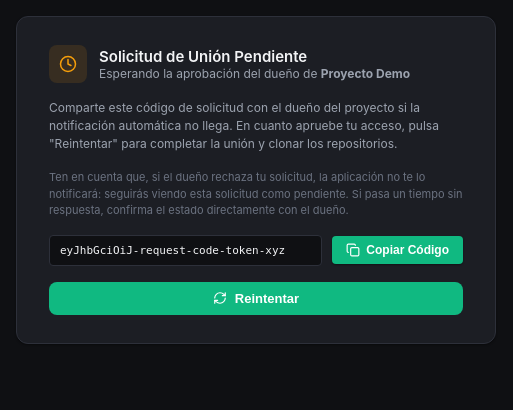
Scenario: JoinRequestPending › muestra el mensaje que resuelve onRetry (p. ej. "todavía pendiente")
Click the button "Reintentar": click(256, 298) [49,282,463,314]
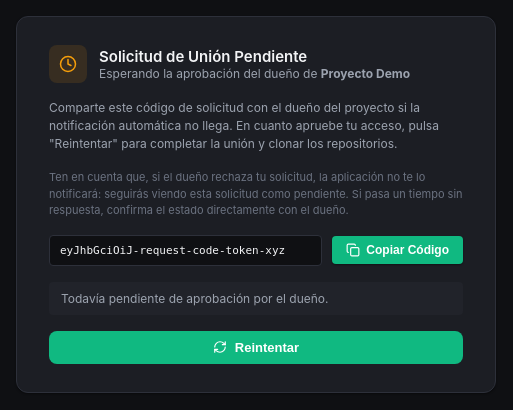
Check: the text with test id "join-request-status-message" reads "Todavía pendiente de aprobación por el dueño.", box [61,290,328,306]
